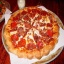pepperoni: (24, 42, 37, 53), (17, 37, 26, 48), (44, 27, 53, 37), (23, 20, 31, 29), (10, 34, 20, 41), (10, 22, 17, 31), (21, 15, 30, 21)
pizza: (5, 7, 59, 58)
